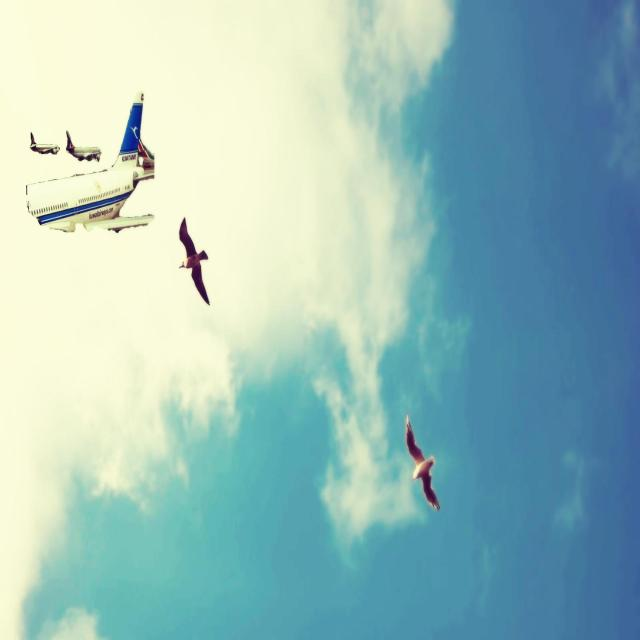airplane: (25, 90, 155, 234), (66, 130, 102, 162), (29, 131, 60, 155)
